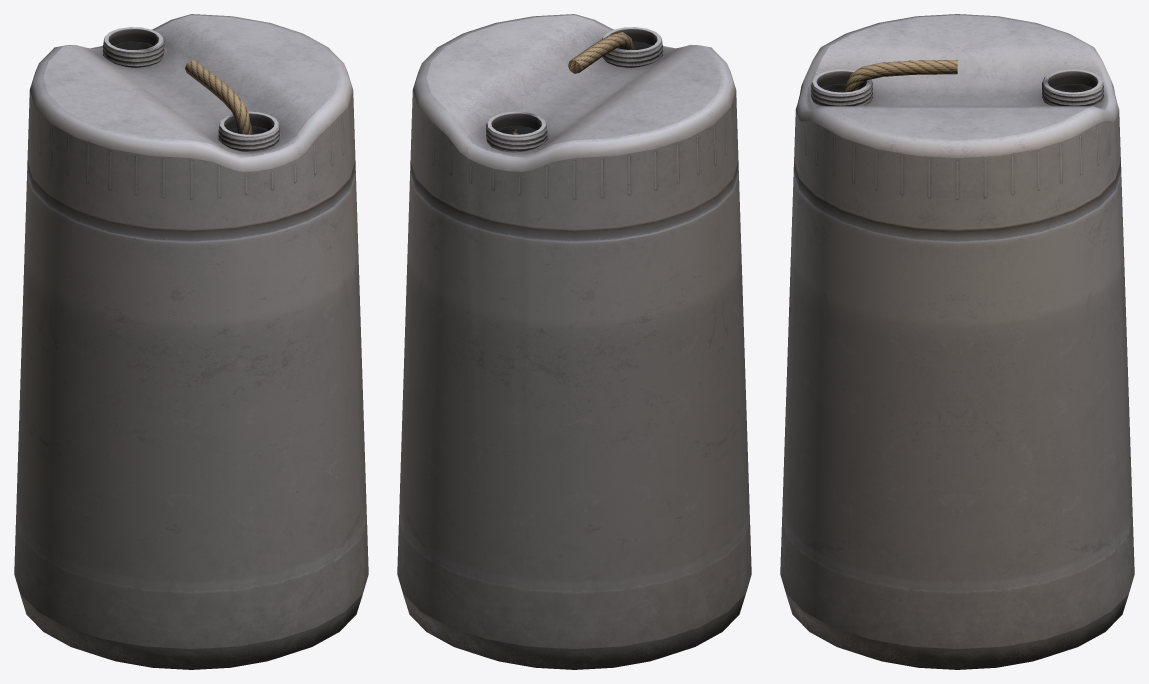
Rendered from post.dae.
3 views of the same model, side by side, from view 1: azimuth 30°, elevation 25°; view 2: azimuth 150°, elevation 25°; view 3: azimuth 270°, elevation 25° (orthographic).
Visible parts, largest first — view 1: Post; view 2: Post; view 3: Post.
Boxes of the visible parts, left/top/right/bottom form: Post: left=14, top=14, right=368, bottom=669; Post: left=397, top=14, right=751, bottom=669; Post: left=780, top=14, right=1134, bottom=669.
Bounding box in the file's own units: 64.56 × 64.56 × 110.
